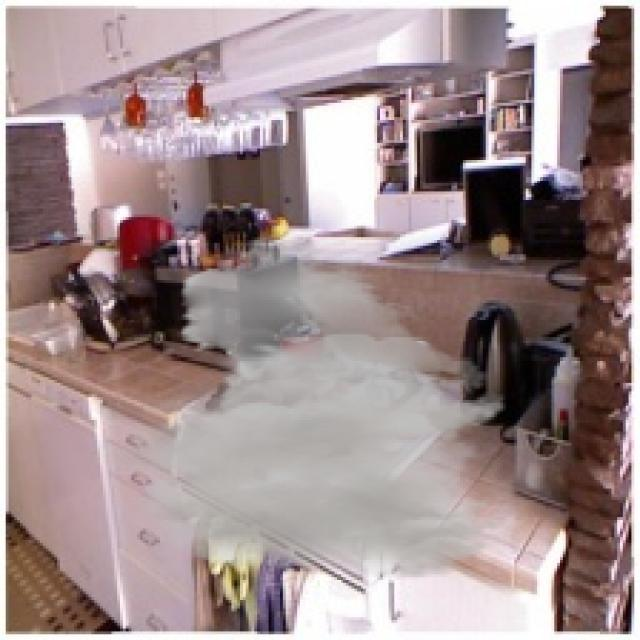smoke: (89, 223, 508, 580)
